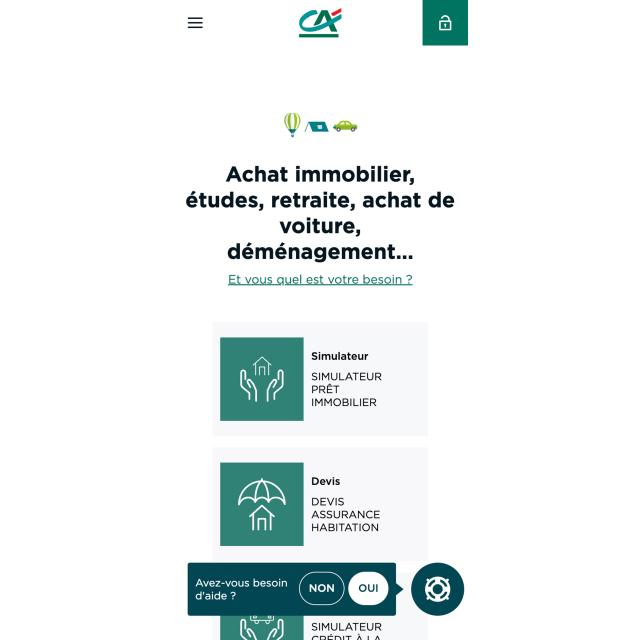logo: (294, 4, 347, 44)
navigation: (182, 12, 207, 33)
